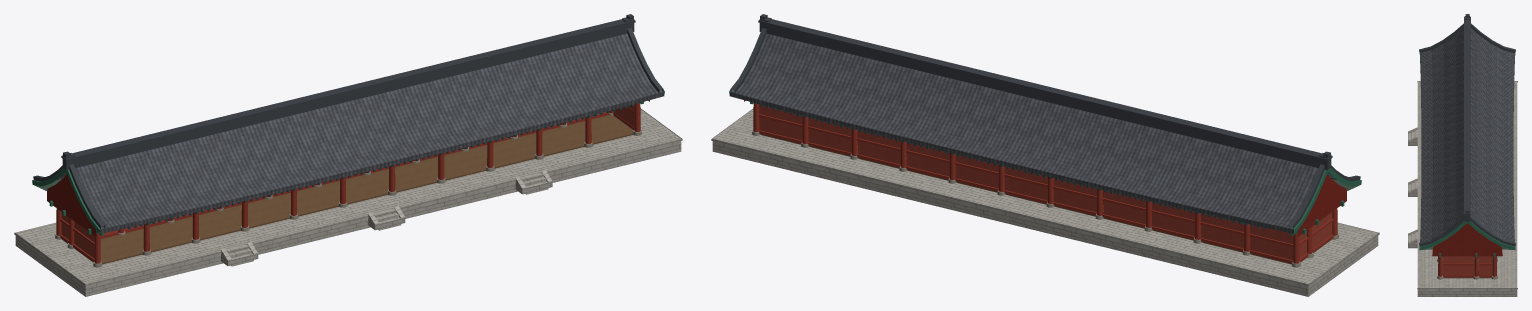
The picture shows the model from 3 angles, left to right: view 1: azimuth 30°, elevation 25°; view 2: azimuth 150°, elevation 25°; view 3: azimuth 270°, elevation 25°; orthographic projection. The views are drawn at different scales.
Visible parts, largest first — view 1: dongmu; view 2: dongmu; view 3: dongmu.
Boxes of the visible parts, x1,y1,x2,y2 form: dongmu: (14,14,682,296); dongmu: (711,14,1379,296); dongmu: (1408,14,1517,296).
Size of the model in its own units: 48.8 by 8.93 by 10.92.
Materials: 11 (10 with a texture image).
